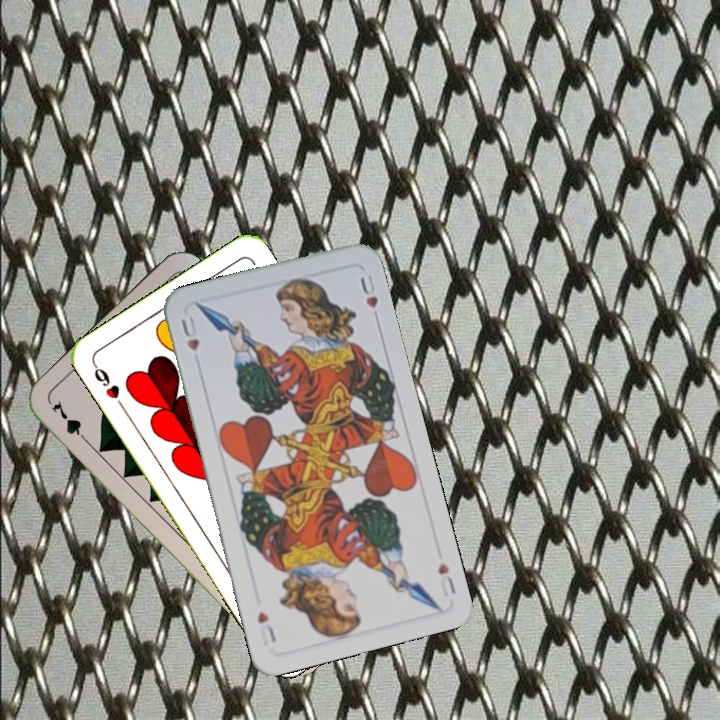G7: (46, 397, 93, 448)
H9: (88, 359, 127, 411)
HU: (433, 558, 459, 599), (177, 312, 202, 354)
